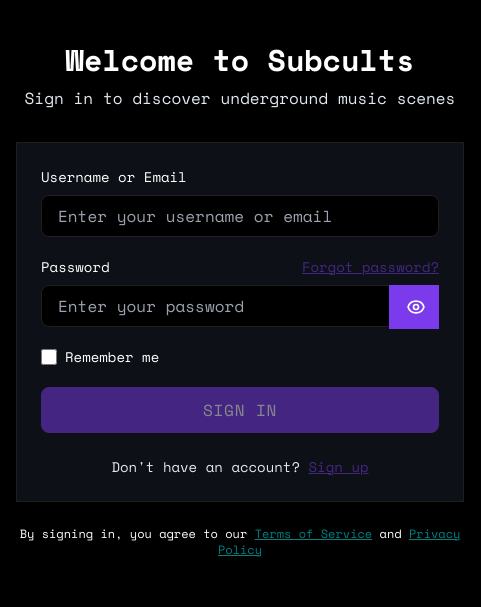
Test case: LoginPage › Form Submission › displays error message on login failure
The image size is (481, 607).
Type "testuser" into the field labelled "Username or Email" at (240, 216), box [41,195,439,237]
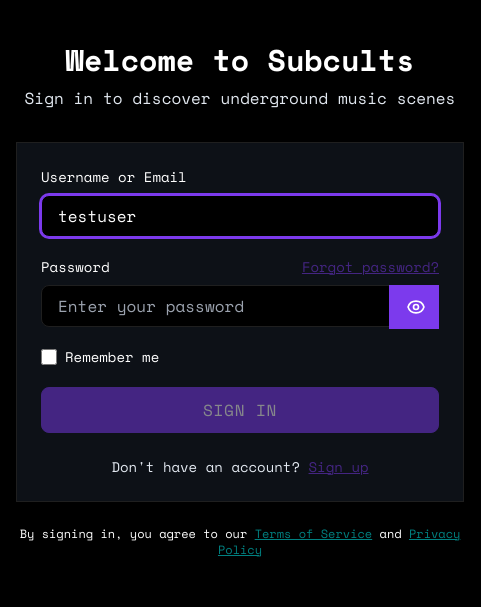
Type "wrongpassword" into the password field labelled "Password" at (240, 306), box [41,285,439,327]
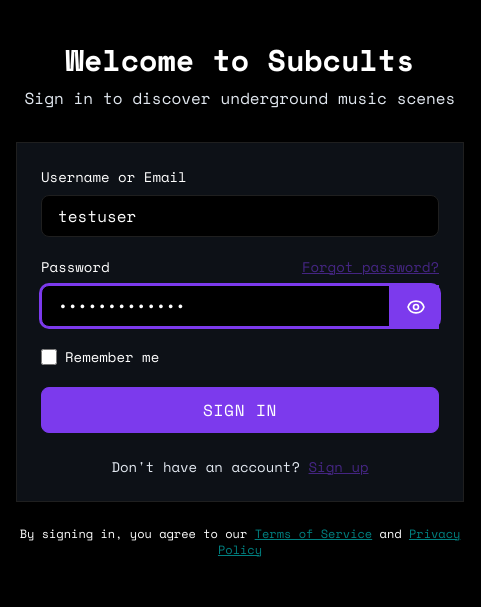
Click the button "Sign in" at (240, 410), box [41,387,439,433]
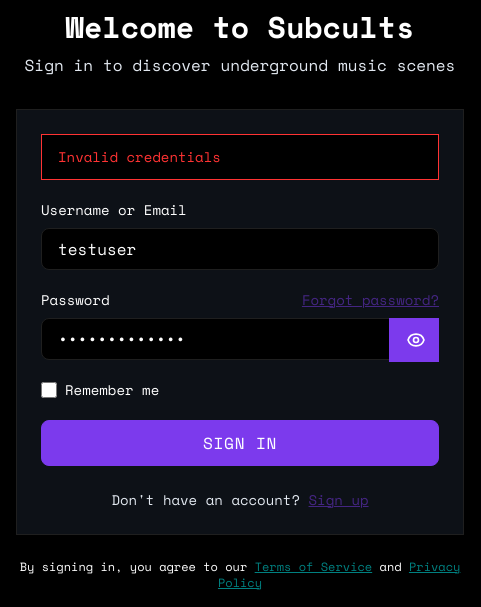
Expected: the text "Invalid credentials" is shown, [58,146,221,167]
